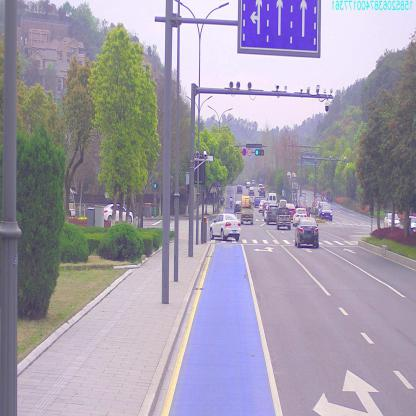traffic-light: (255, 149, 264, 155)
